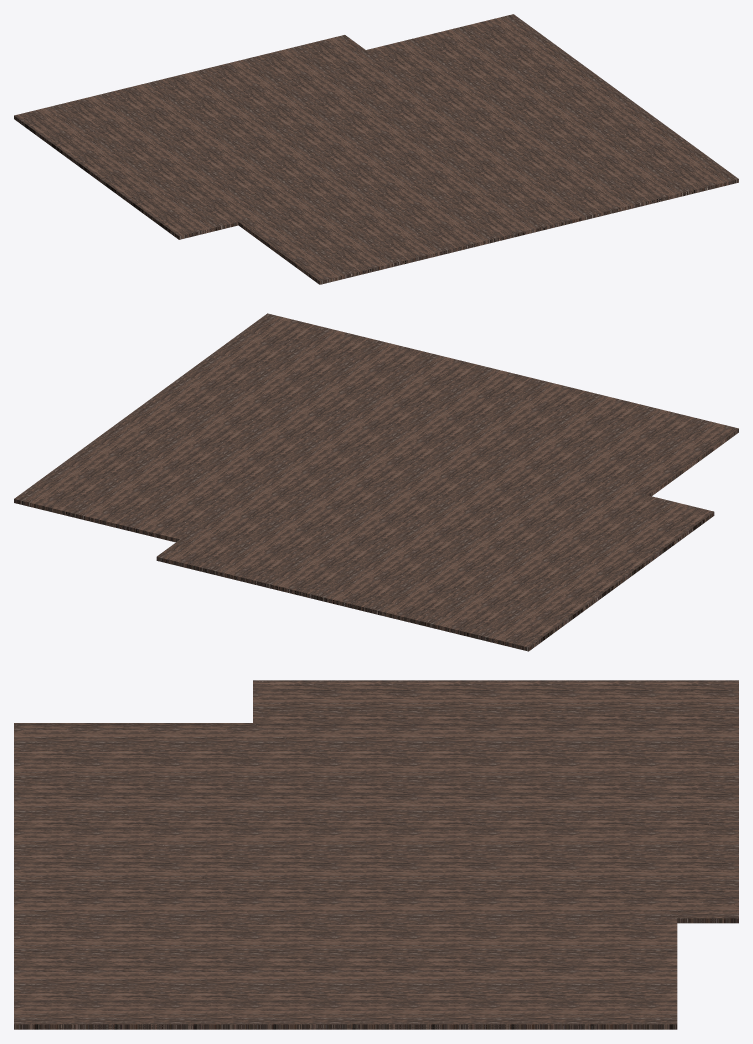
The model's file is teto.glb.
3 renders of one model, top to bottom at view 1: azimuth 30°, elevation 25°; view 2: azimuth 150°, elevation 25°; view 3: azimuth 270°, elevation 25°, orthographic. The views are drawn at different scales.
Visible parts, largest first — view 1: teto; view 2: teto; view 3: teto.
Part boxes in pixels (x1=…): teto: x1=14, y1=14, x2=738, y2=284; teto: x1=14, y1=313, x2=738, y2=651; teto: x1=14, y1=680, x2=738, y2=1029.
Bounding box in the file's own units: 32.57 × 0.2333 × 29.03.
Materials: 1 (1 with a texture image).
